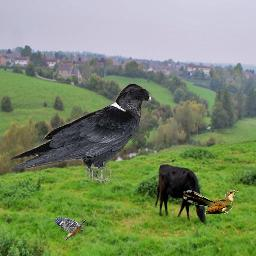Crow: (7, 83, 155, 188)
Cuckoo: (183, 190, 239, 214)
Woodpecker: (53, 216, 86, 241)
